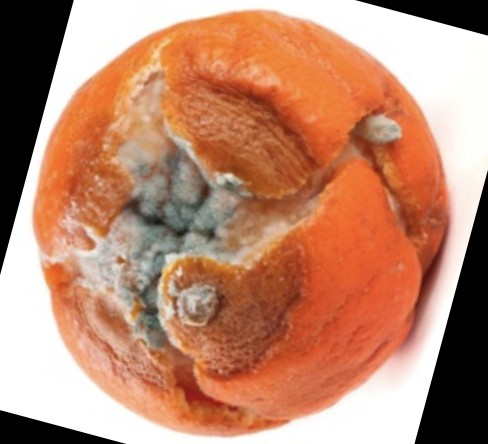rotten_orange: (34, 10, 451, 437)
